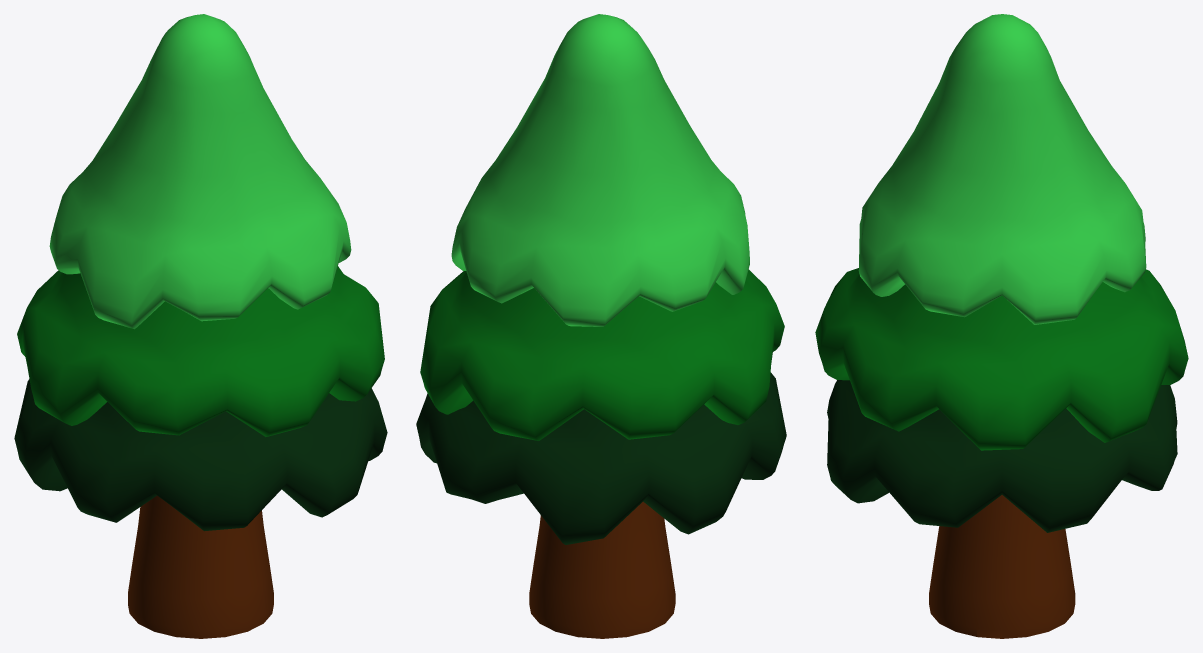
Rendered from Sapin_02_v3.fbx.
The picture shows the model from 3 angles, left to right: view 1: azimuth 30°, elevation 25°; view 2: azimuth 150°, elevation 25°; view 3: azimuth 270°, elevation 25°; orthographic projection.
Parts seen in each view (by area): view 1: Feuilles_Haut_low004, Feuilles_Milieu_low003, Feuilles_Bas_low003, Tronc_low009; view 2: Feuilles_Haut_low004, Feuilles_Milieu_low003, Feuilles_Bas_low003, Tronc_low009; view 3: Feuilles_Haut_low004, Feuilles_Milieu_low003, Feuilles_Bas_low003, Tronc_low009.
Part boxes in pixels (left/top/right/bottom): Feuilles_Haut_low004: left=49, top=14, right=351, bottom=329; Feuilles_Milieu_low003: left=17, top=266, right=384, bottom=436; Feuilles_Bas_low003: left=14, top=379, right=387, bottom=531; Tronc_low009: left=128, top=495, right=273, bottom=638; Feuilles_Haut_low004: left=451, top=14, right=749, bottom=326; Feuilles_Milieu_low003: left=420, top=269, right=784, bottom=440; Feuilles_Bas_low003: left=416, top=372, right=786, bottom=544; Tronc_low009: left=529, top=501, right=675, bottom=638; Feuilles_Haut_low004: left=858, top=14, right=1146, bottom=324; Feuilles_Milieu_low003: left=815, top=268, right=1188, bottom=450; Feuilles_Bas_low003: left=827, top=380, right=1177, bottom=532; Tronc_low009: left=929, top=495, right=1075, bottom=638.
Bounding box in the file's own units: 68.72 × 121 × 69.34.
